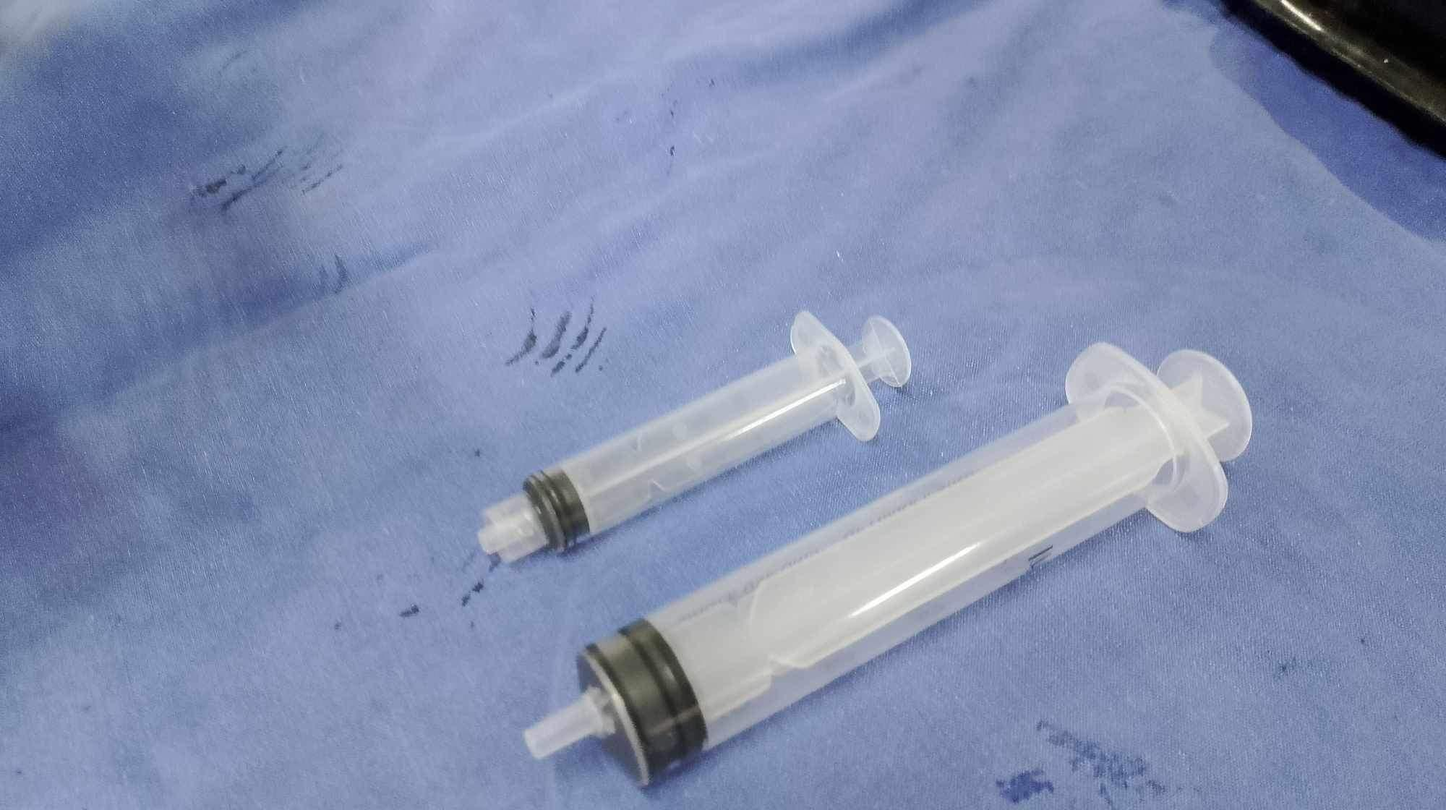General: (6, 4, 1437, 803)
Sharps: (521, 338, 1253, 790), (475, 307, 912, 567)
